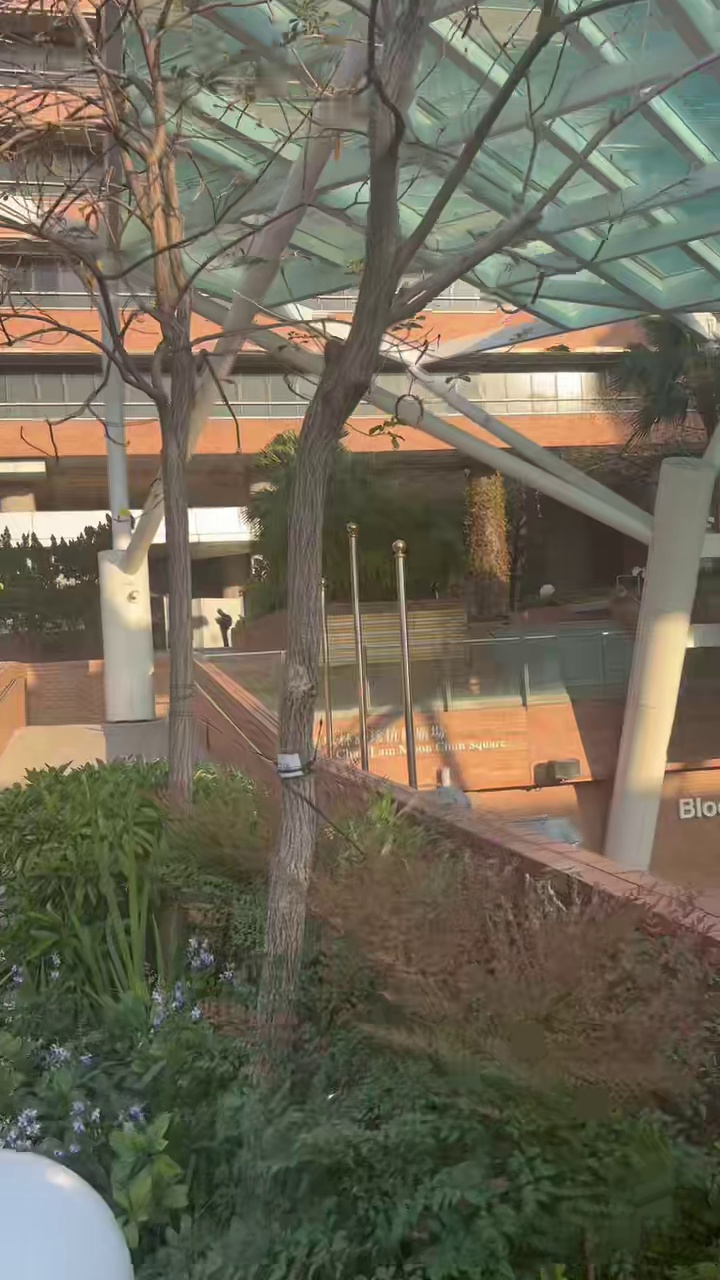Tabebuia chrysantha: (258, 0, 636, 1038)
